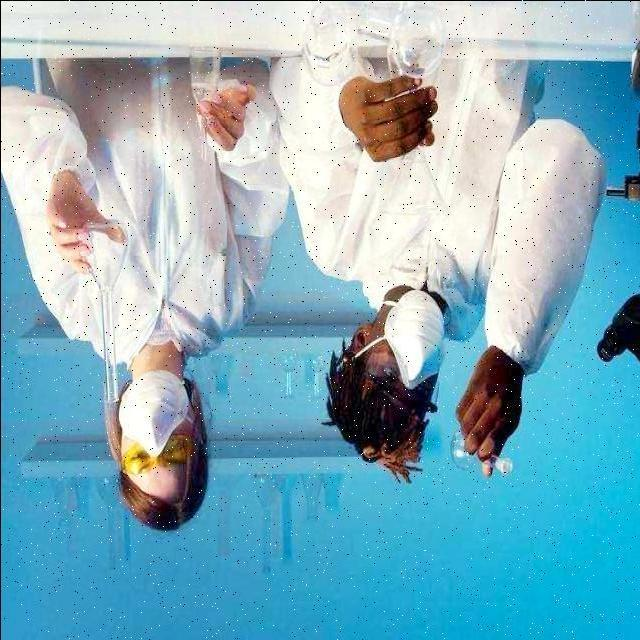mask: (108, 375, 190, 443), (390, 299, 444, 379)
no_gloves: (318, 384, 434, 456), (121, 483, 205, 537)
